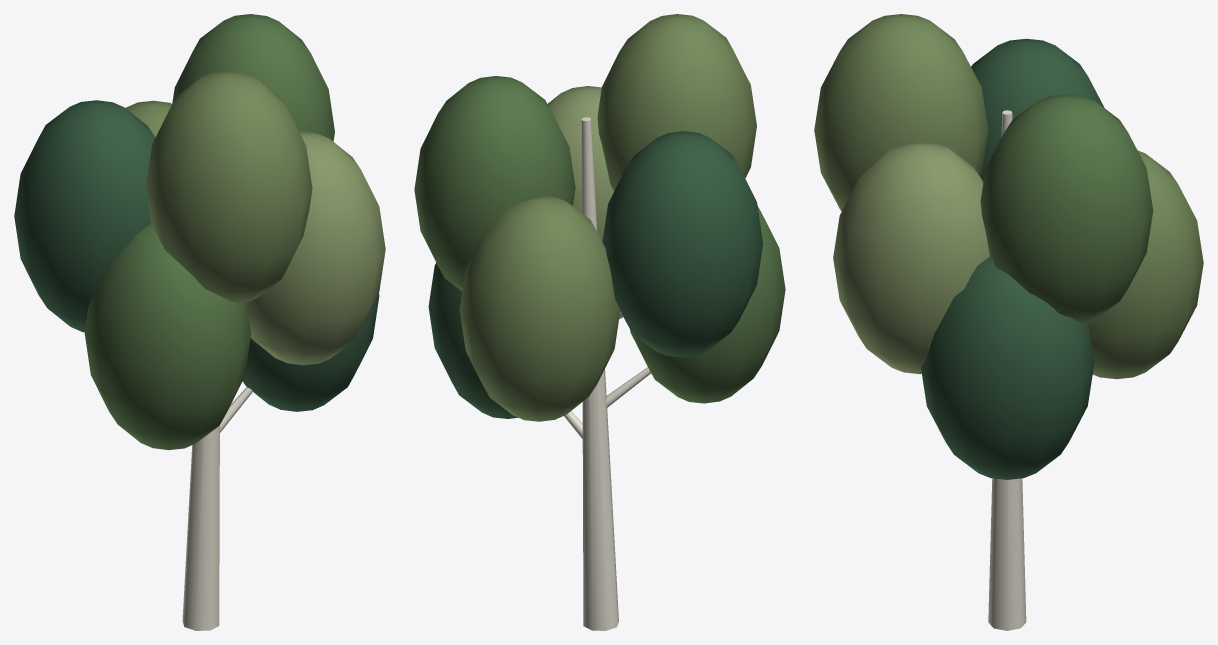
The model's file is birch-tree.glb.
The picture shows the model from 3 angles, left to right: view 1: azimuth 30°, elevation 25°; view 2: azimuth 150°, elevation 25°; view 3: azimuth 270°, elevation 25°; orthographic projection. The views are drawn at different scales.
Visible parts, largest first — view 1: birch-tree; view 2: birch-tree; view 3: birch-tree.
Part boxes in pixels (box(x1,y1,x2,y2)): birch-tree: box(14, 14, 385, 630); birch-tree: box(414, 14, 785, 630); birch-tree: box(814, 14, 1203, 630).
Size of the model in its own units: 2.61 by 4.46 by 2.66.
